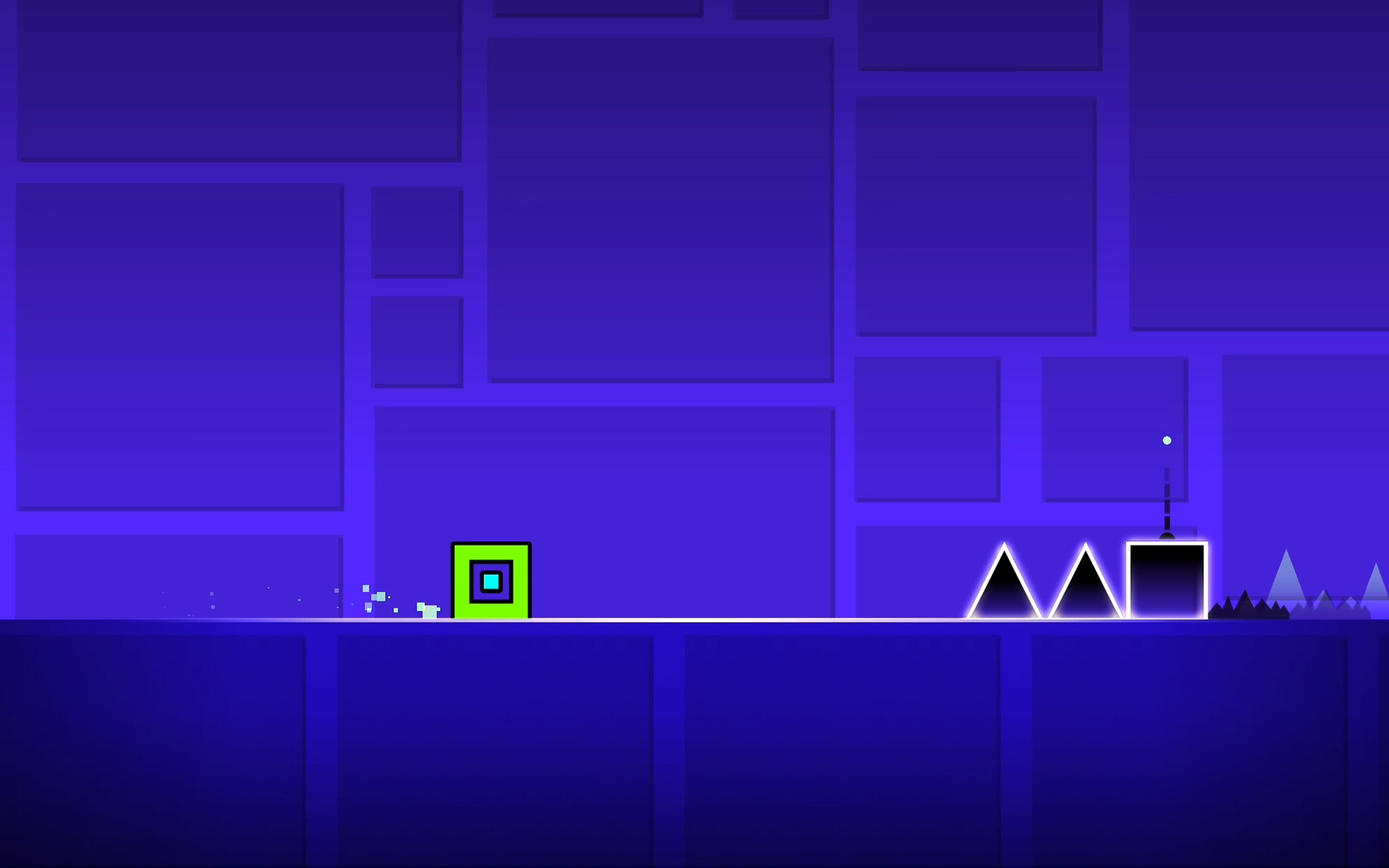Block: (1126, 541, 1208, 619)
Player: (451, 542, 533, 618)
Spike: (966, 543, 1042, 617), (1048, 543, 1122, 619)
Spike3: (1208, 592, 1290, 620), (1290, 592, 1371, 619)
